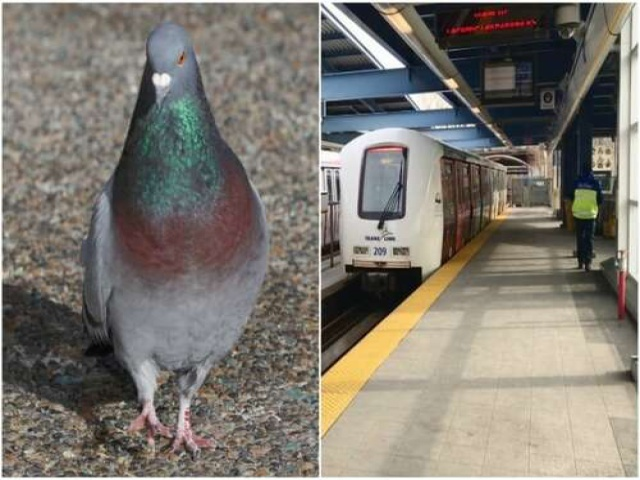Pigeon: (72, 19, 270, 462)
